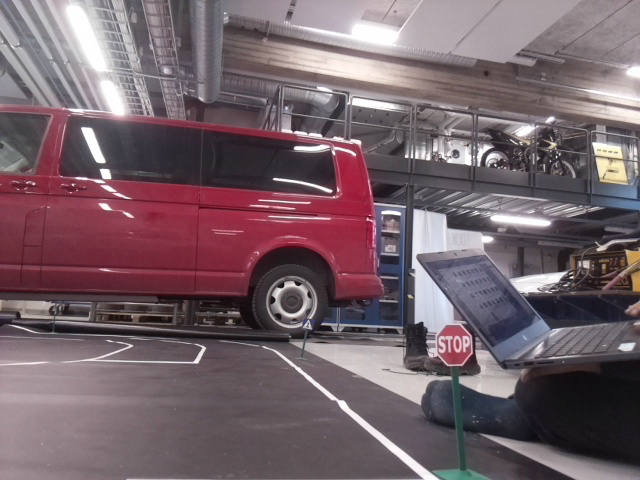Crosswalk: (302, 317, 312, 331)
Stop: (434, 320, 475, 366)
